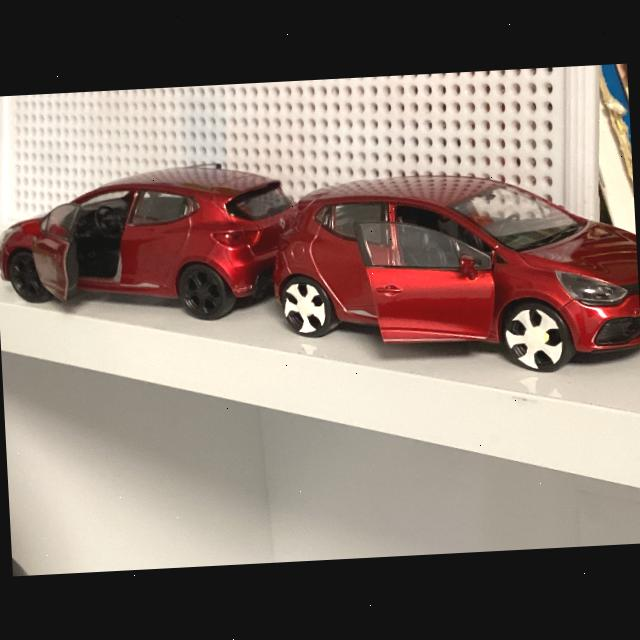Dogru_Jant: (181, 268, 224, 318), (10, 256, 45, 299)
Yanlis_Jant: (506, 306, 565, 372), (282, 281, 327, 335)
